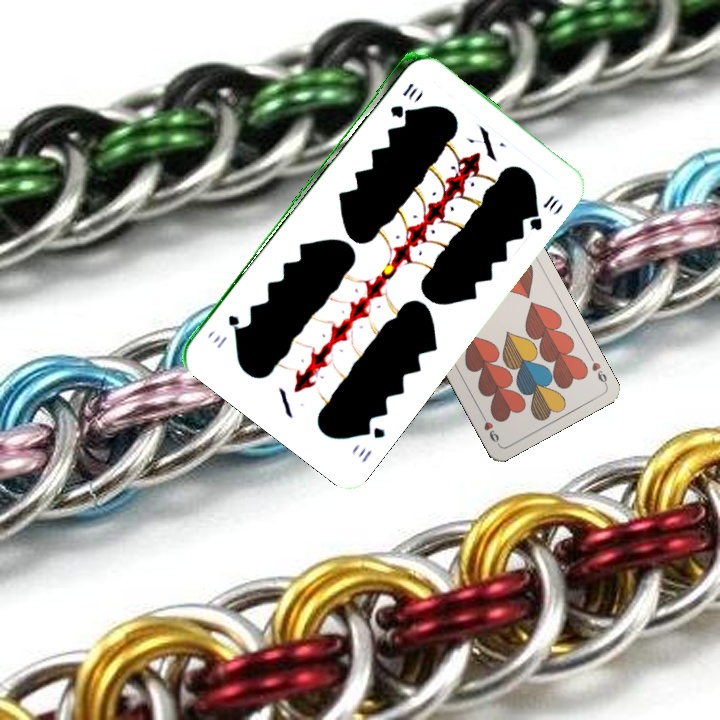G10: (354, 418, 388, 465), (386, 78, 420, 119)
H9: (585, 350, 610, 388)
